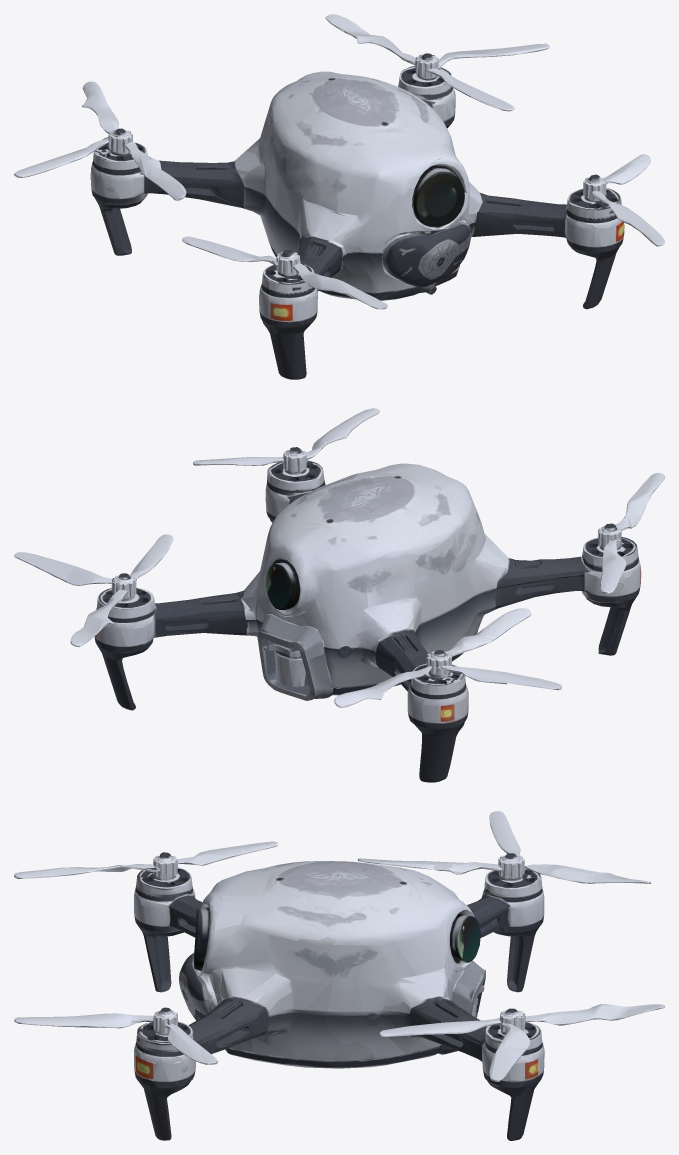
Rendered from refereeDrone.498e189a.glb.
3 renders of one model, top to bottom at view 1: azimuth 30°, elevation 25°; view 2: azimuth 150°, elevation 25°; view 3: azimuth 270°, elevation 25°, orthographic. The views are drawn at different scales.
Parts seen in each view (by area): view 1: output_unwrapped; view 2: output_unwrapped; view 3: output_unwrapped.
Boxes of the visible parts, left/top/right/bottom form: output_unwrapped: left=14, top=14, right=664, bottom=379; output_unwrapped: left=14, top=408, right=664, bottom=782; output_unwrapped: left=14, top=811, right=664, bottom=1140.
Size of the model in its own units: 1.87 by 0.6056 by 1.9.
Materials: 1 (1 with a texture image).
